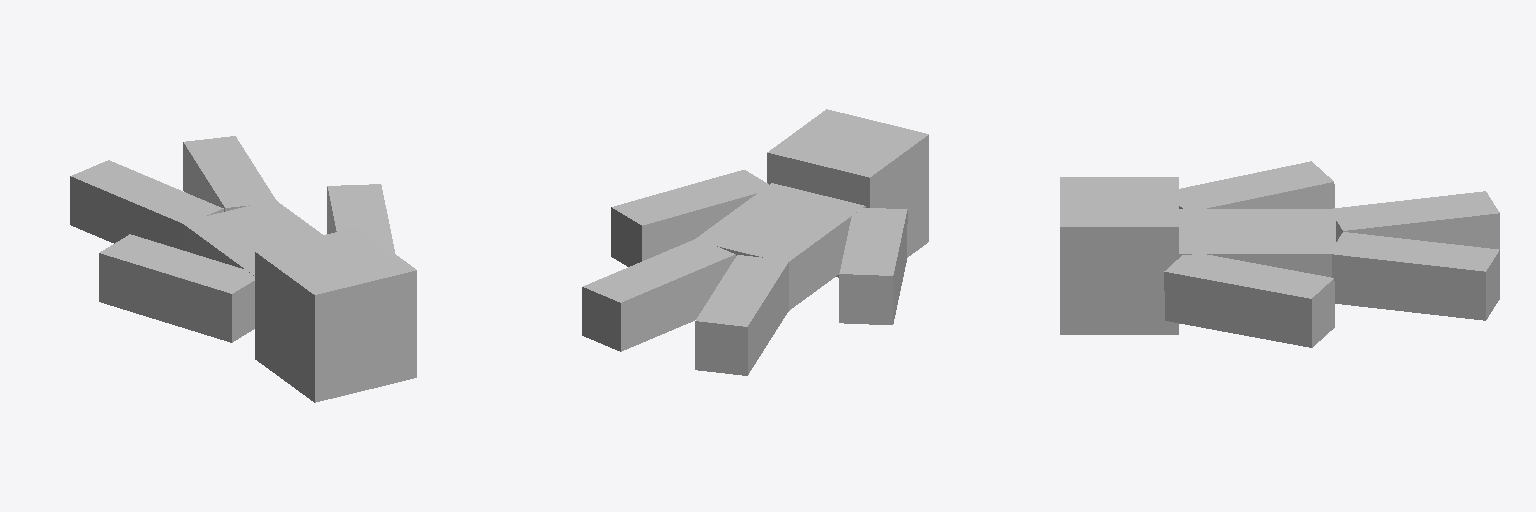
Rendered from death_character.obj.
3 views of the same model, side by side, from view 1: azimuth 30°, elevation 25°; view 2: azimuth 150°, elevation 25°; view 3: azimuth 270°, elevation 25° (orthographic).
Parts seen in each view (by area): view 1: Player_Cube; view 2: Player_Cube; view 3: Player_Cube.
Part boxes in pixels (x1,y1,x2,y2): Player_Cube: (70, 136, 416, 402); Player_Cube: (582, 109, 928, 375); Player_Cube: (1060, 161, 1499, 347).
Bounding box in the file's own units: 1.39 × 0.506 × 1.88.